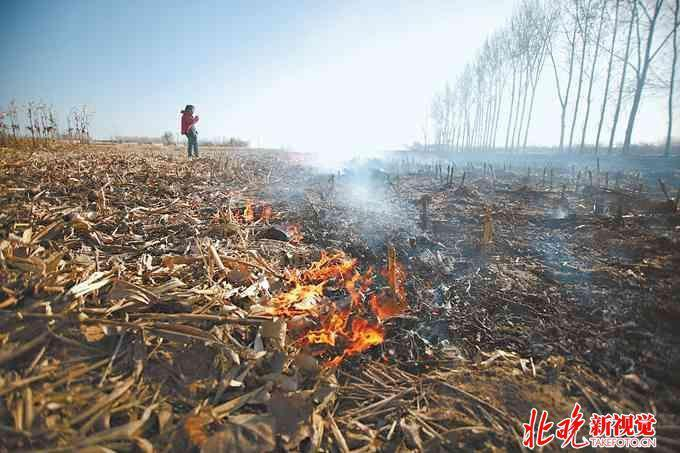fire: (221, 193, 407, 377), (175, 398, 226, 442)
